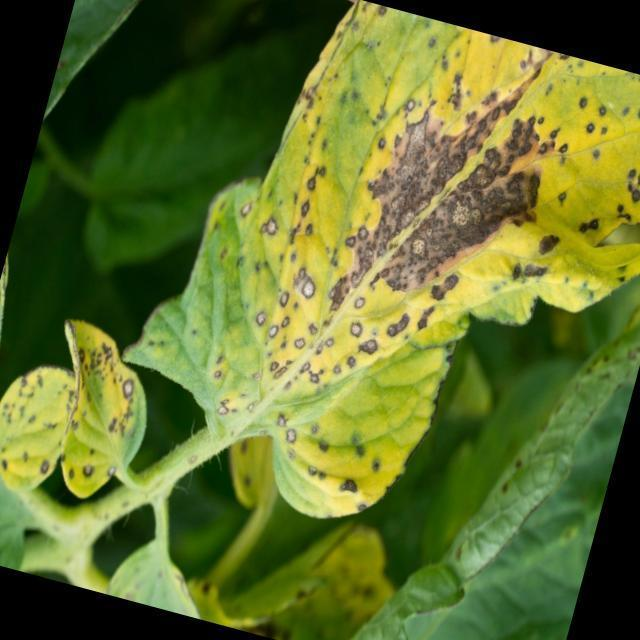Septoria: (205, 0, 640, 504), (44, 326, 168, 490), (0, 358, 78, 497)
